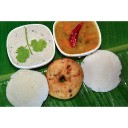idly: (81, 52, 122, 92), (5, 70, 48, 106)
